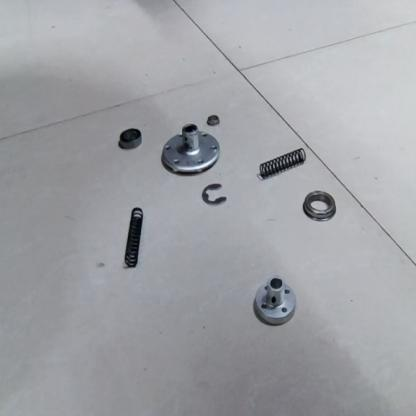FOD: (160, 124, 219, 174), (250, 275, 297, 331), (255, 144, 309, 181), (120, 204, 145, 273), (300, 190, 338, 221), (199, 181, 230, 209), (116, 125, 143, 152), (202, 110, 222, 127)
